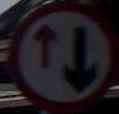Two way: (13, 11, 101, 98)
